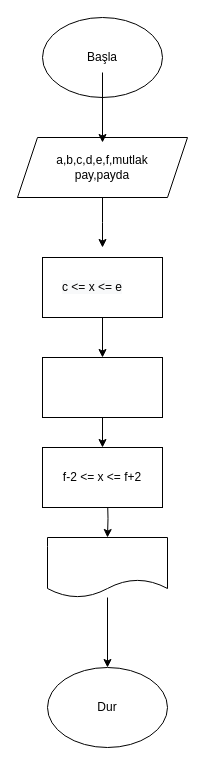
This 205x765 diagram has some shape labels left out. Here are the shapes that lost their labels. From the top down, the centre of each, then its label:
[102,387]: c+e / 2 = f
[107,567]: Mutlak
